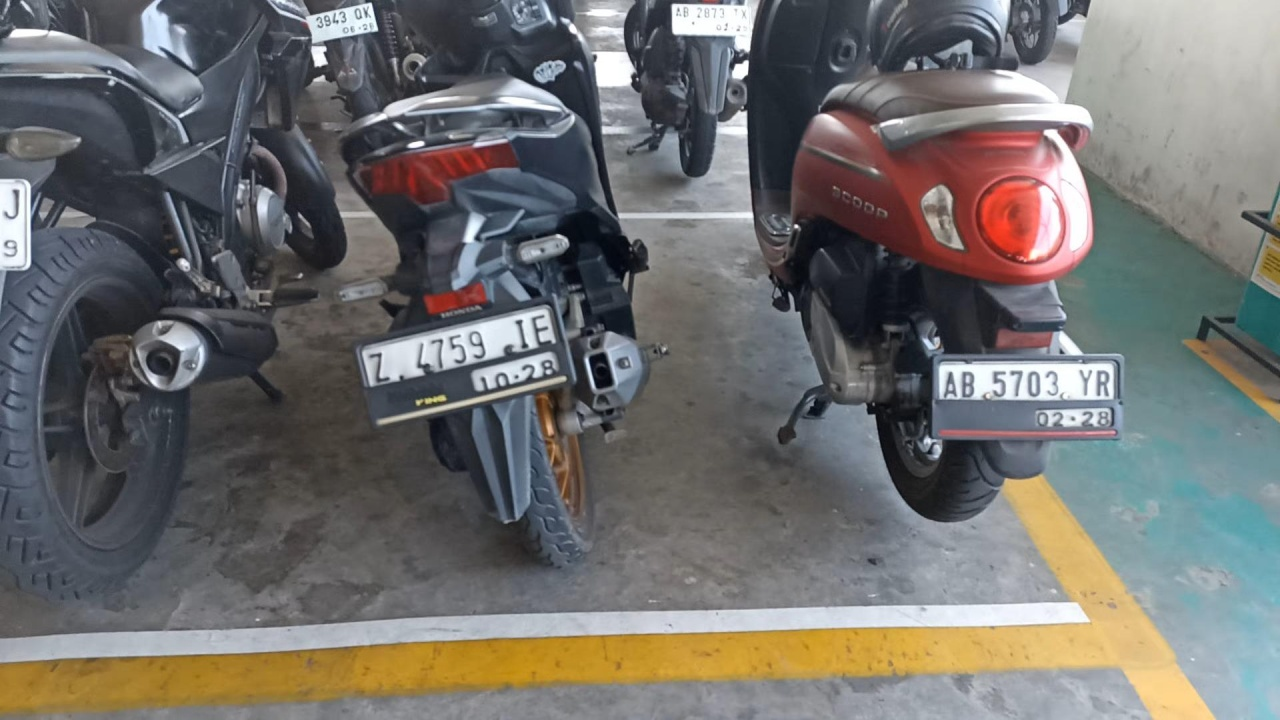plate: (356, 299, 571, 428), (935, 357, 1122, 440)
